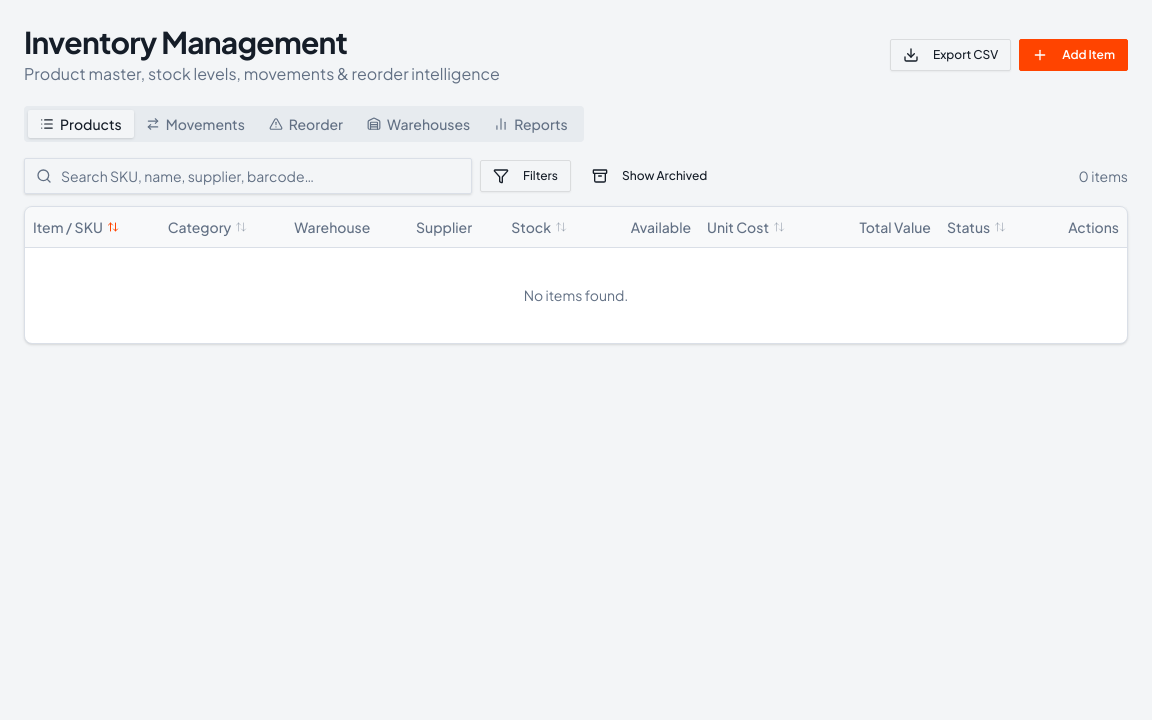
Test: Inventory page – Add Item modal › submit becomes enabled after all required fields are filled correctly
The width and height of the screenshot is (1152, 720).
Click the button "Add Item" at [1074, 55], box [1019,39,1128,71]
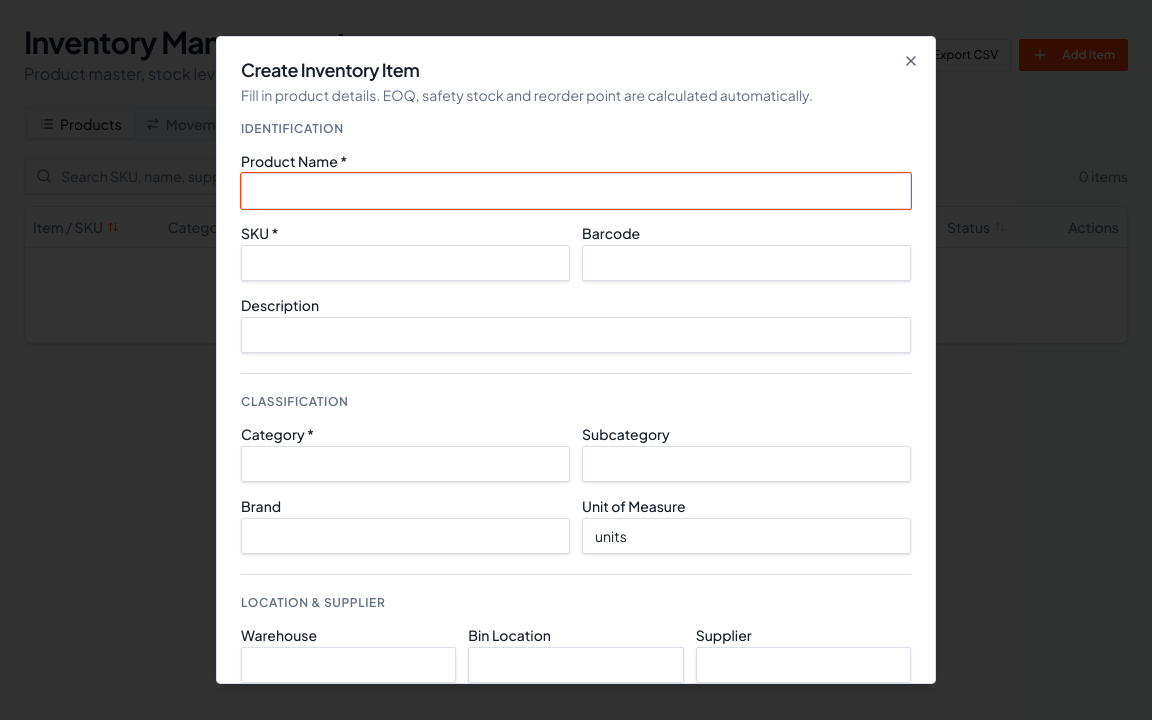
Type "Steel Bearing" into the field labelled "Product Name *" at [576, 191], box [241,173,911,209]
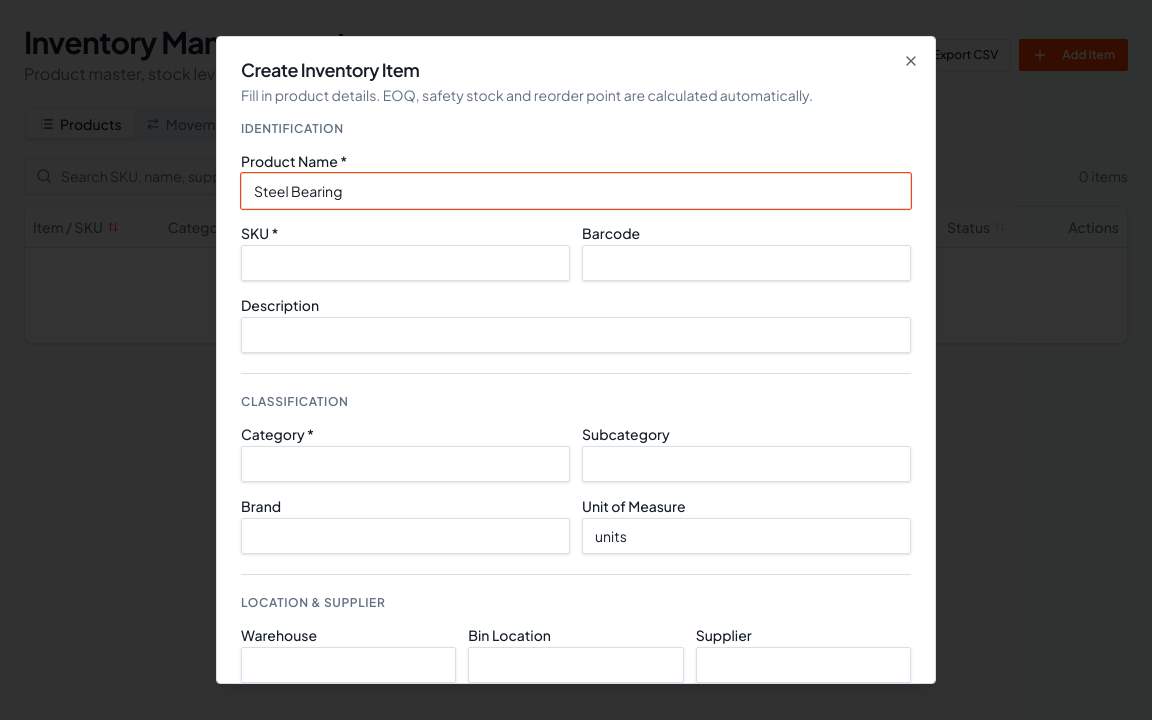
Type "SKU-001" into the field labelled "SKU *" at [406, 263], box [241,245,570,281]
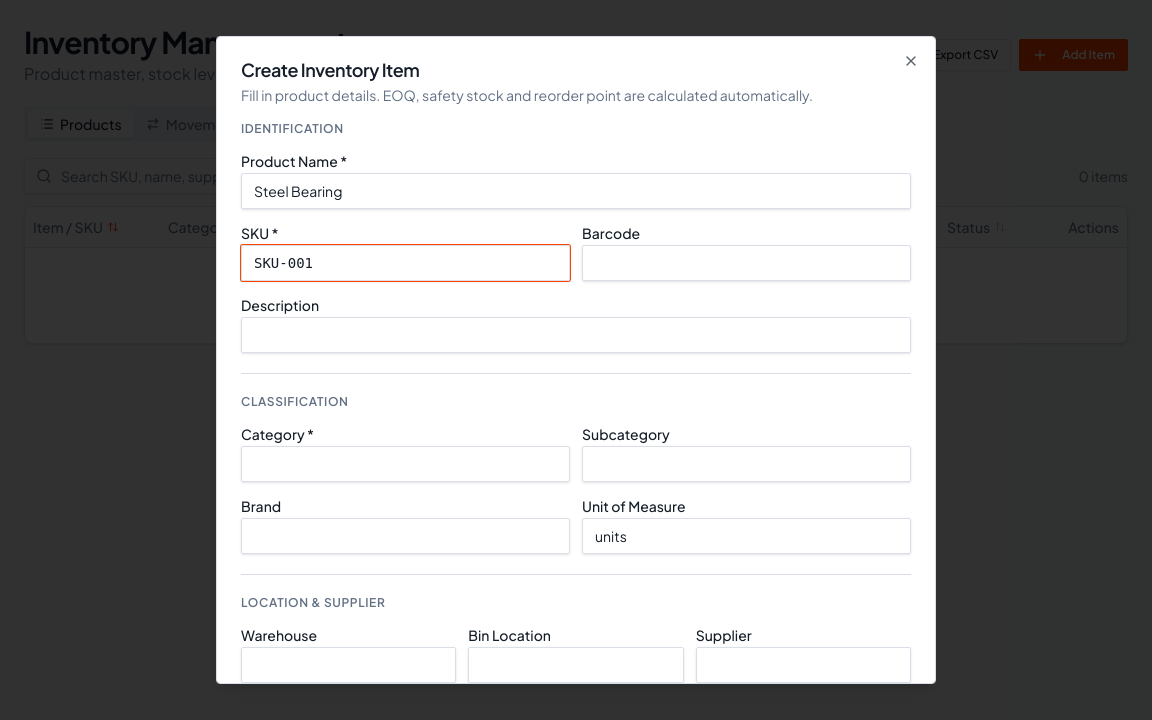
Type "Bearings" into the field labelled "Category *" at [406, 464], box [241,446,570,482]
(page scrolled)
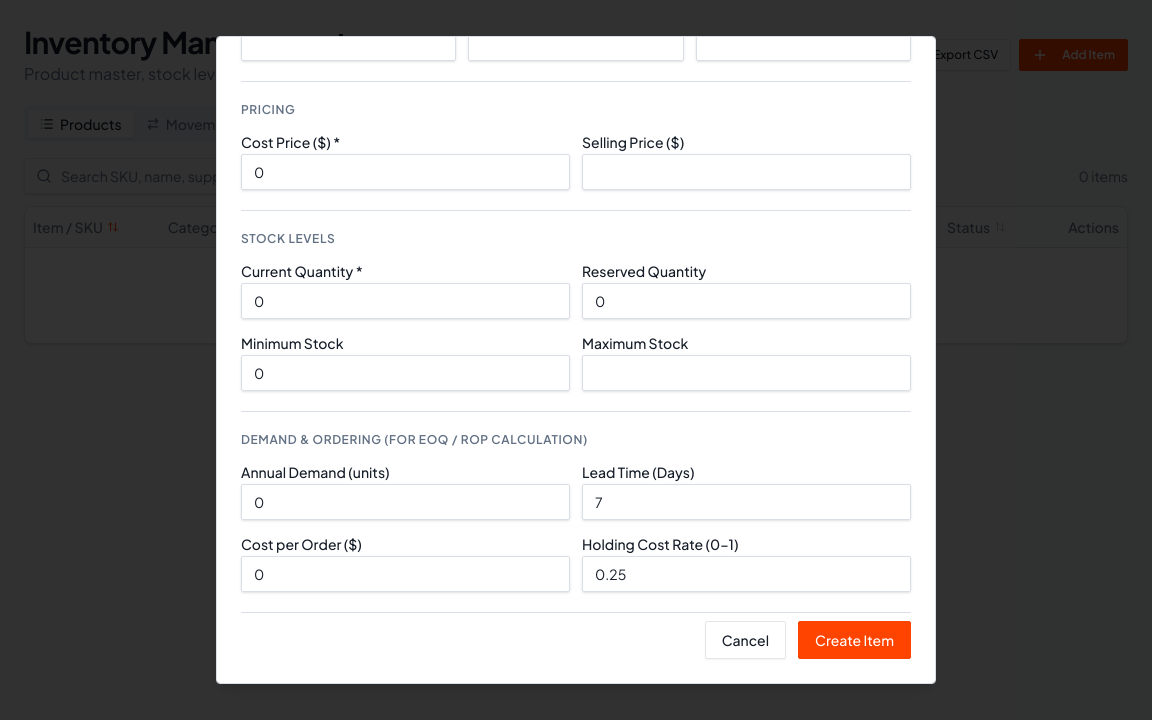
Expected: the button "Create Item" is enabled, [798,621,911,659]
